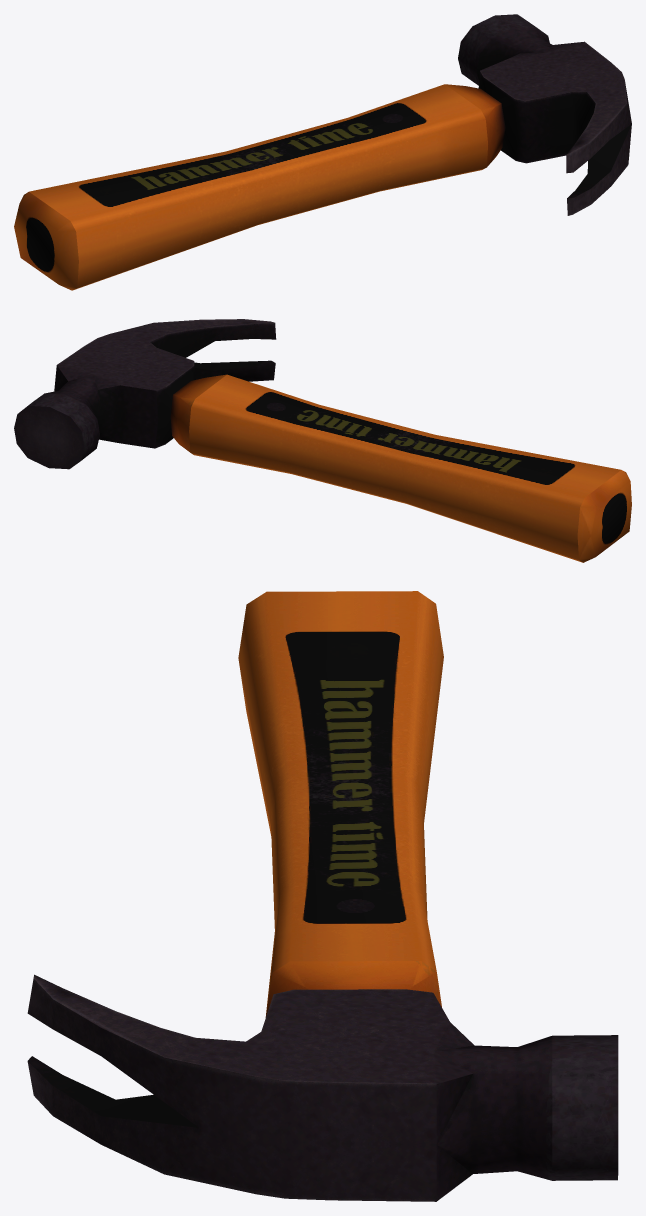
3 views of the same model, one above another, from view 1: azimuth 30°, elevation 25°; view 2: azimuth 150°, elevation 25°; view 3: azimuth 270°, elevation 25° (orthographic). The views are drawn at different scales.
Parts seen in each view (by area): view 1: nail-puller_nailpuller_0_4; view 2: nail-puller_nailpuller_0_4; view 3: nail-puller_nailpuller_0_4.
Boxes of the visible parts, x1,y1,x2,y2 form: nail-puller_nailpuller_0_4: (14,14,631,290); nail-puller_nailpuller_0_4: (14,319,631,562); nail-puller_nailpuller_0_4: (27,591,618,1201).
Size of the model in its own units: 0.9181 by 0.1223 by 0.438.
Materials: 1 (1 with a texture image).
